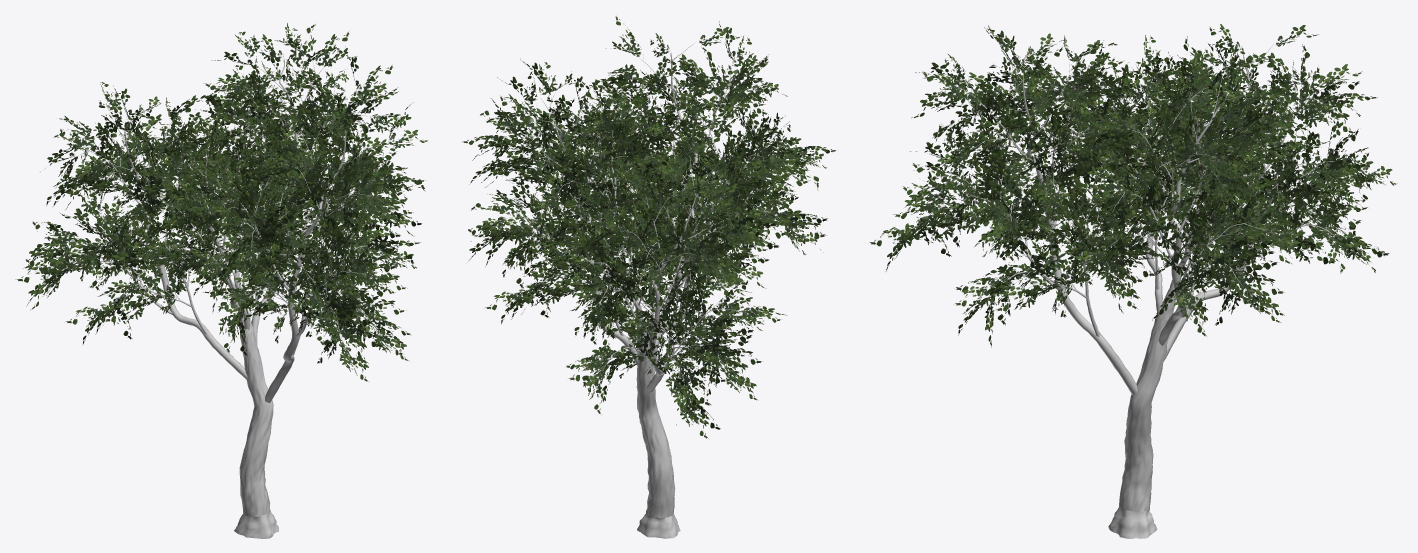
File: FBX_WE17_QuercusAgrifolia_1.fbx
3 renders of one model, left to right at view 1: azimuth 30°, elevation 25°; view 2: azimuth 150°, elevation 25°; view 3: azimuth 270°, elevation 25°, orthographic. The views are drawn at different scales.
Visible parts, largest first — view 1: Leaf01_1, Bark01_1; view 2: Leaf01_1, Bark01_1; view 3: Leaf01_1, Bark01_1.
Boxes of the visible parts, left/top/right/bottom form: Leaf01_1: left=15, top=23, right=428, bottom=381; Bark01_1: left=63, top=53, right=384, bottom=538; Leaf01_1: left=462, top=16, right=835, bottom=438; Bark01_1: left=506, top=42, right=790, bottom=538; Leaf01_1: left=869, top=24, right=1397, bottom=347; Bark01_1: left=918, top=44, right=1355, bottom=538.
Bounding box in the file's own units: 374 × 504 × 470.
